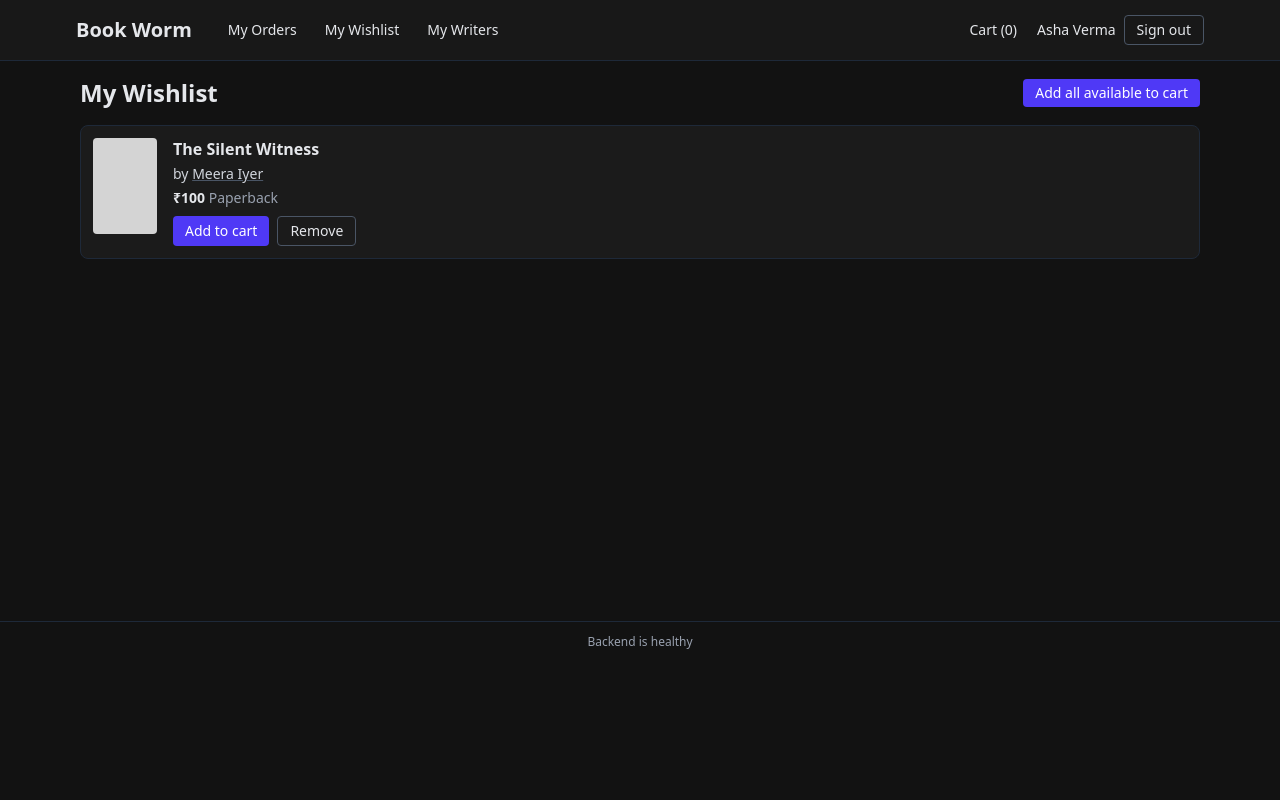
My Wishlist page › shows an error next to the page when adding to the cart fails
The width and height of the screenshot is (1280, 800).
Click the button with aria-label "Add to cart: The Silent Witness".
click(221, 231)  # box [173,216,269,246]
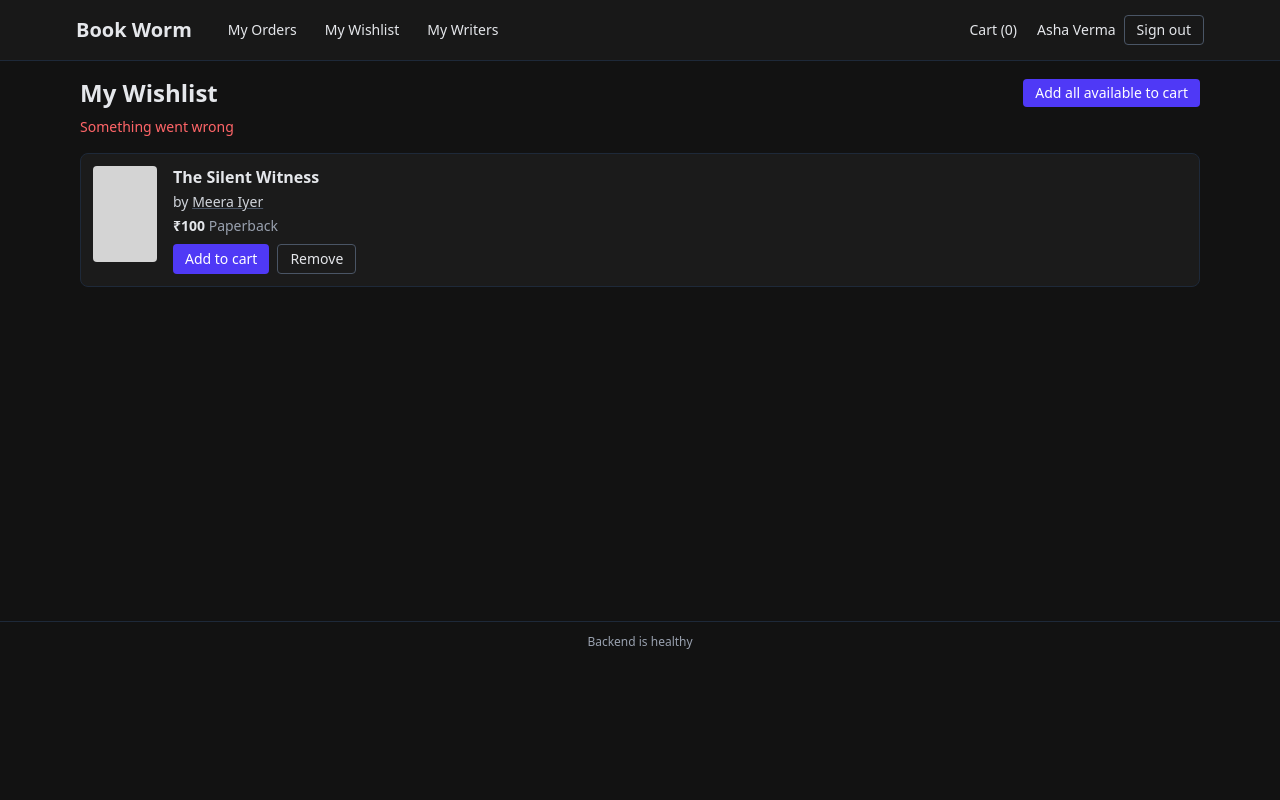
Now the message "Something went wrong" is shown, box [80,117,234,136]
